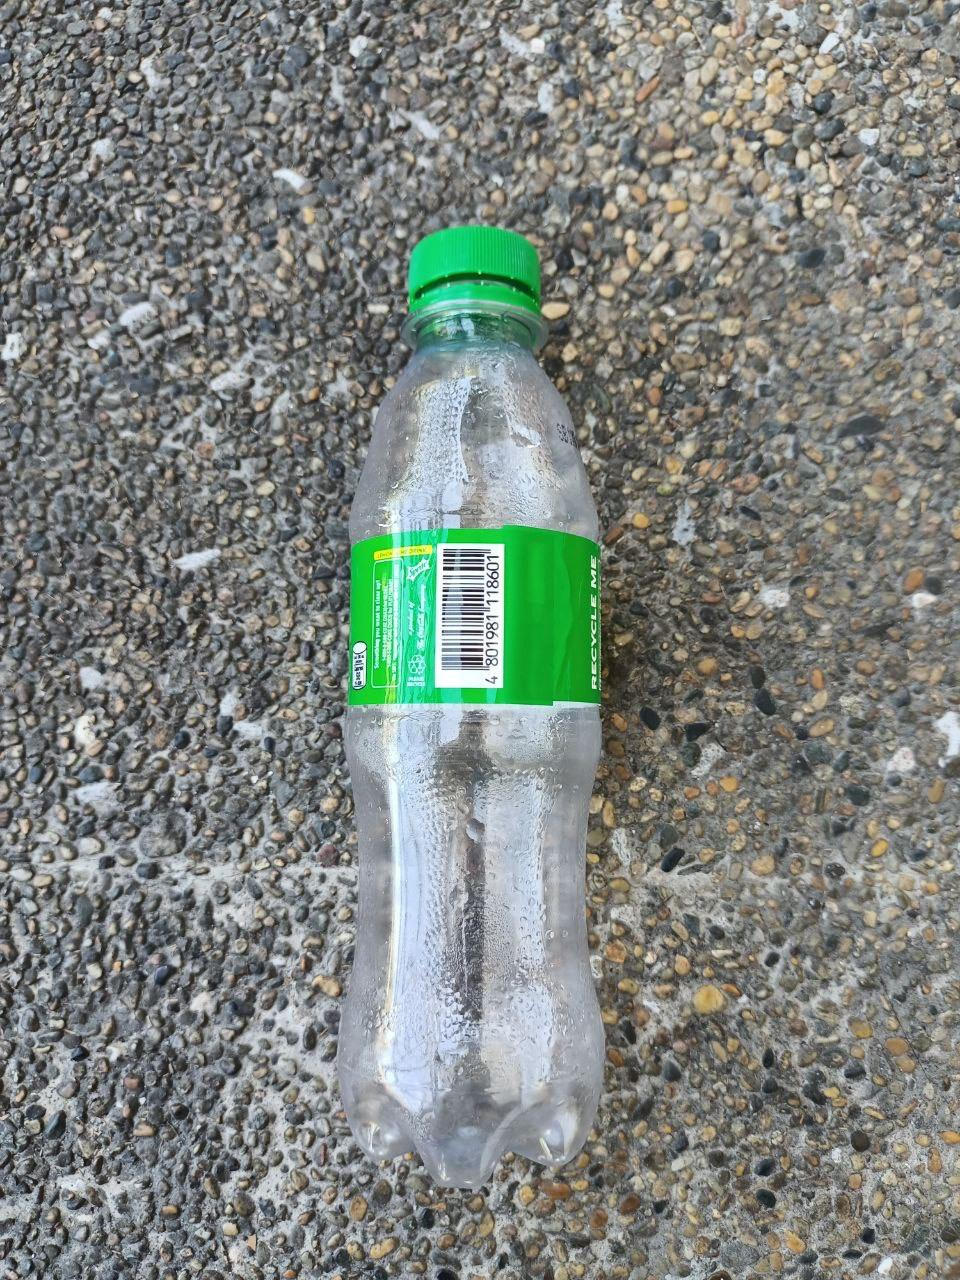plastic: (279, 185, 663, 1213)
